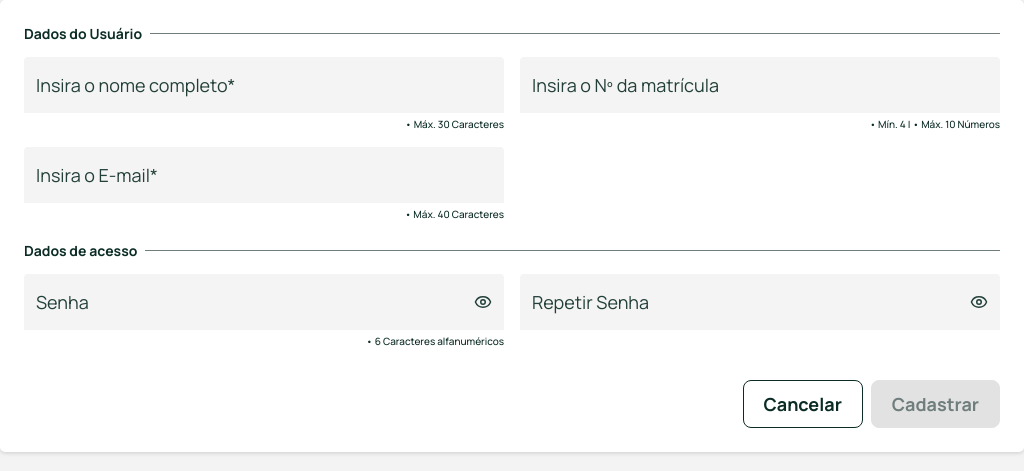
Test case: UserForm — cadastro › mostra erro de nome com números ao sair do campo
Type "Maria 2" into the field labelled "Insira o nome completo*" at (264, 85), box [24,57,504,113]
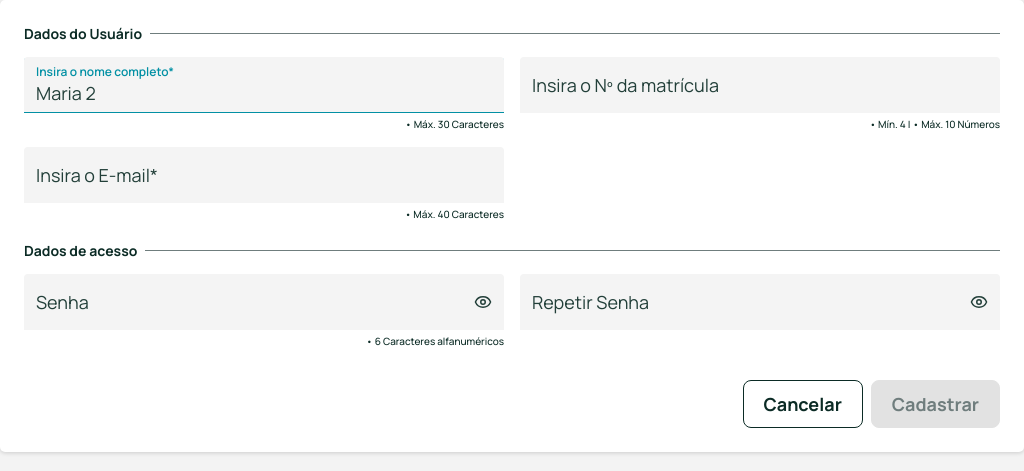
Press Tab
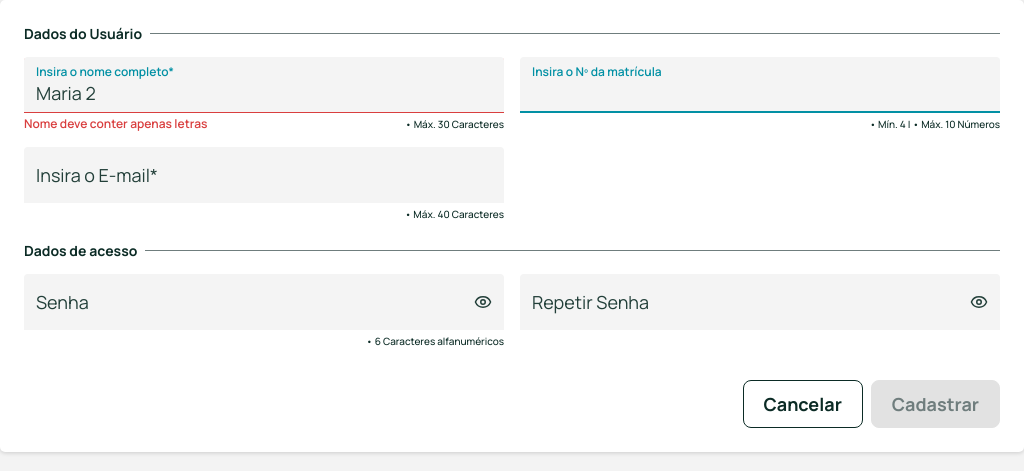
Result: the text "Nome deve conter apenas letras" is shown at [24,115,207,132]
